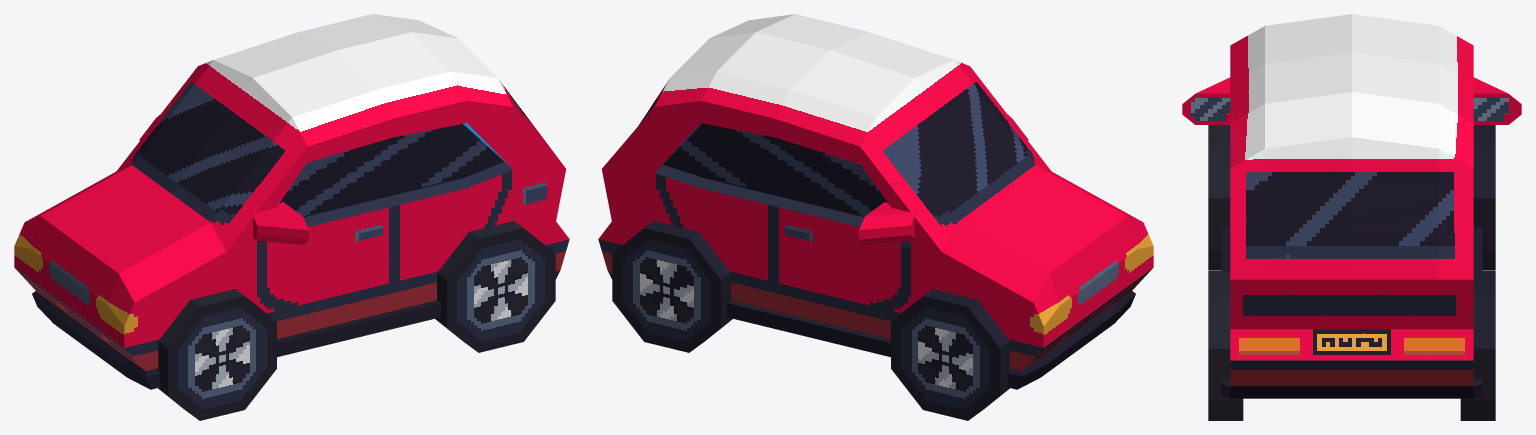
File: red_car.gltf
3 views of the same model, side by side, from view 1: azimuth 30°, elevation 25°; view 2: azimuth 150°, elevation 25°; view 3: azimuth 270°, elevation 25° (orthographic). The views are drawn at different scales.
Visible parts, largest first — view 1: cuboid; view 2: cuboid; view 3: cuboid.
Boxes of the visible parts, x1,y1,x2,y2 form: cuboid: (14, 14, 569, 420); cuboid: (598, 14, 1153, 420); cuboid: (1182, 14, 1521, 420).
Bounding box in the file's own units: 2.05 × 1.2 × 1.22.
5 materials, 5 textured.
